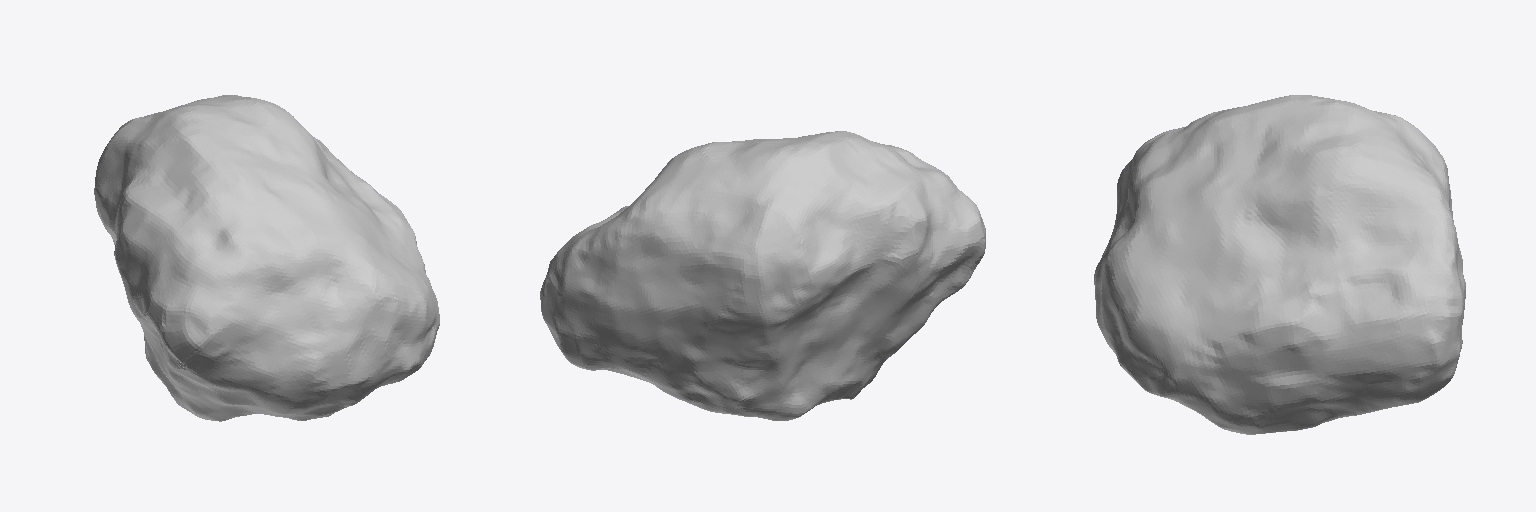
File: rock 3 gb rs.obj
The picture shows the model from 3 angles: view 1: azimuth 30°, elevation 25°; view 2: azimuth 150°, elevation 25°; view 3: azimuth 270°, elevation 25°; orthographic projection.
Parts seen in each view (by area): view 1: Mesh0; view 2: Mesh0; view 3: Mesh0.
Part boxes in pixels (bbox=[...]): Mesh0: bbox=[94, 95, 439, 421]; Mesh0: bbox=[540, 131, 985, 420]; Mesh0: bbox=[1094, 95, 1465, 434].
Bounding box in the file's own units: 1.93 × 1.58 × 2.